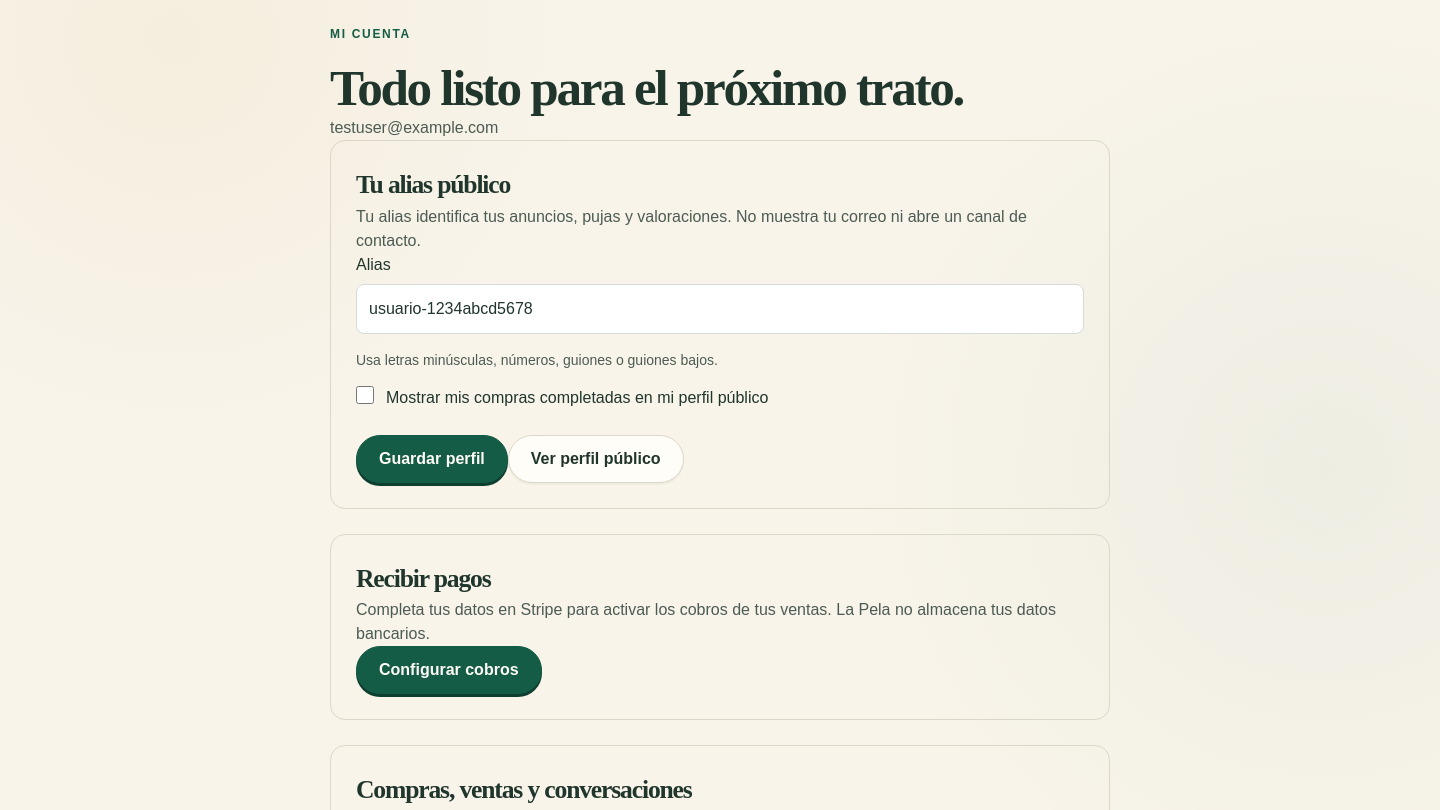
Test: User Account - Public Profile Customization (/user-profile) (LP-FEAT-013) › displays error message when alias is taken or invalid (AC-01)
Step 1. Replace the text in the field labelled "Alias" with "alias_duplicado" → (720, 309), box [356,284,1084,334]
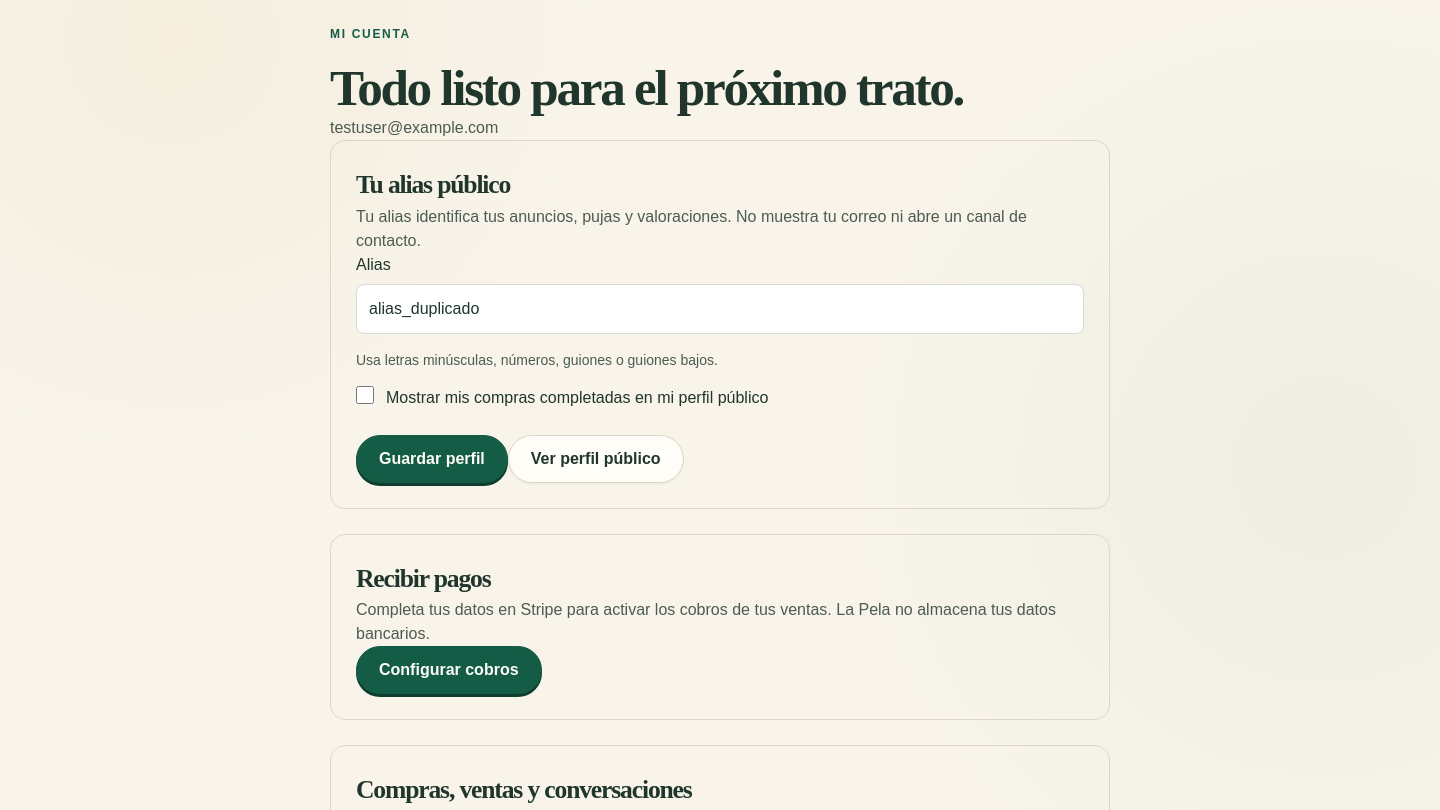
Step 2. Click the button "Guardar perfil" → (432, 459), box [356,435,508,483]
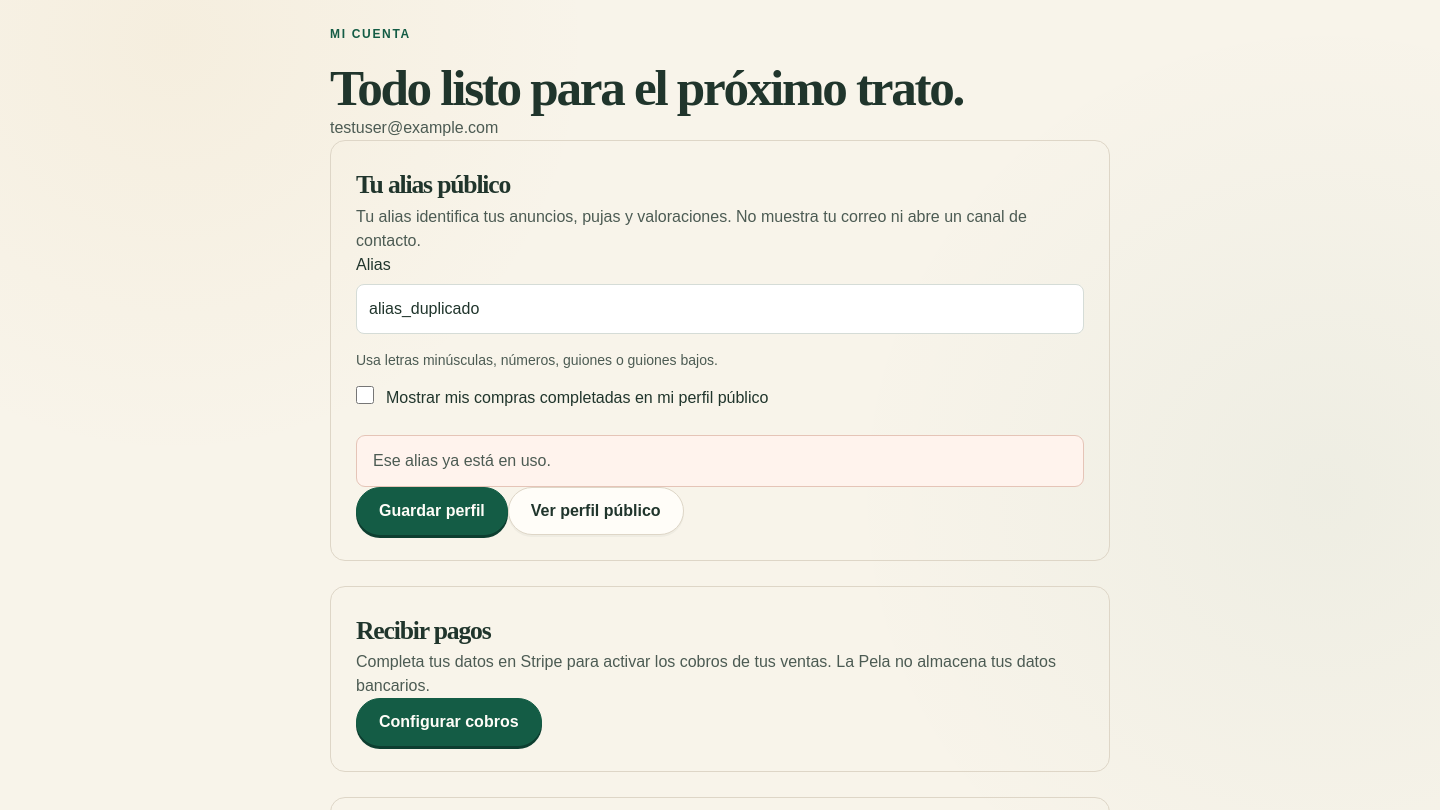
expect the message reads "Ese alias ya está en uso.": met, box [373,452,551,469]
